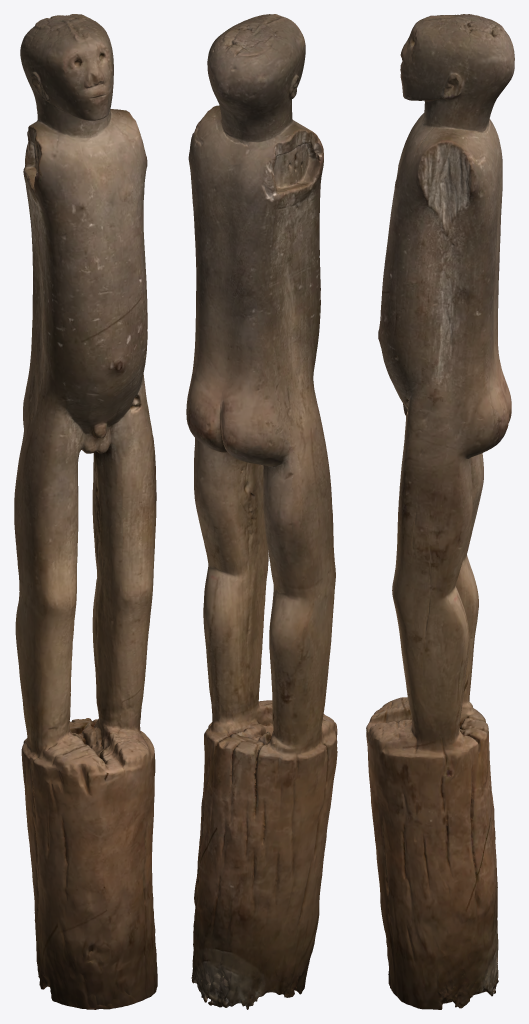
Rendered from preview.glb.
3 views of the same model, side by side, from view 1: azimuth 30°, elevation 25°; view 2: azimuth 150°, elevation 25°; view 3: azimuth 270°, elevation 25° (orthographic).
Visible parts, largest first — view 1: Polygonal_Model_1_PG_1973_264_OB_BongoFigure_n3d; view 2: Polygonal_Model_1_PG_1973_264_OB_BongoFigure_n3d; view 3: Polygonal_Model_1_PG_1973_264_OB_BongoFigure_n3d.
Boxes of the visible parts, x1,y1,x2,y2 form: Polygonal_Model_1_PG_1973_264_OB_BongoFigure_n3d: (14, 14, 157, 1009); Polygonal_Model_1_PG_1973_264_OB_BongoFigure_n3d: (186, 14, 337, 1009); Polygonal_Model_1_PG_1973_264_OB_BongoFigure_n3d: (366, 14, 514, 1009).
Bounding box in the file's own units: 0.2583 × 1.92 × 0.2691.
Materials: 1 (1 with a texture image).
